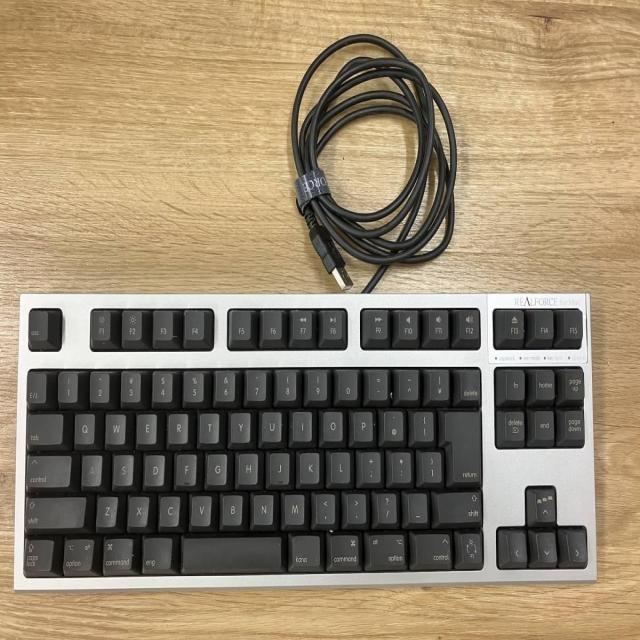keyboard: (17, 291, 599, 587)
